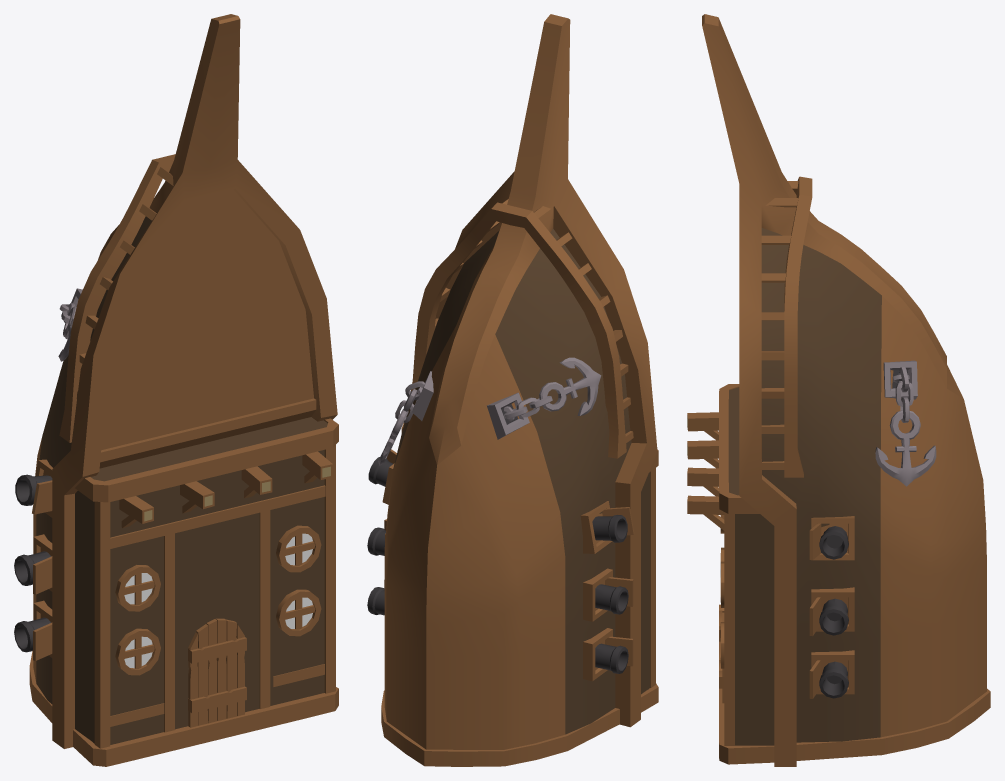
The model's file is House.glb.
3 renders of one model, left to right at view 1: azimuth 30°, elevation 25°; view 2: azimuth 150°, elevation 25°; view 3: azimuth 270°, elevation 25°, orthographic. The views are drawn at different scales.
Visible parts, largest first — view 1: Environment_House2; view 2: Environment_House2; view 3: Environment_House2.
Boxes of the visible parts, x1,y1,x2,y2 form: Environment_House2: (14,14,338,766); Environment_House2: (367,14,658,766); Environment_House2: (687,14,990,766).
Size of the model in its own units: 3.77 by 9.38 by 3.74.
Materials: 2 (1 with a texture image).
